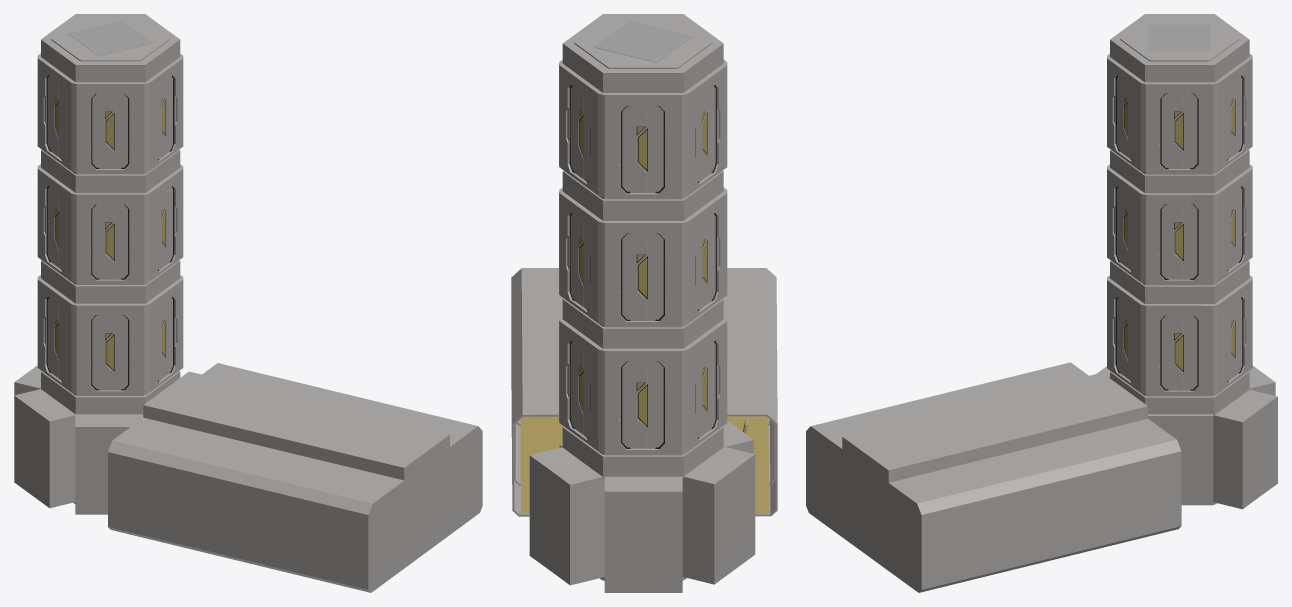
Rendered from kitchen_and_tunnel_model_v4.fbx.
3 renders of one model, left to right at view 1: azimuth 30°, elevation 25°; view 2: azimuth 150°, elevation 25°; view 3: azimuth 270°, elevation 25°, orthographic. The views are drawn at different scales.
Parts seen in each view (by area): view 1: Another_room, WALLS_1 (×3), ceiling_railing_1 (×3), D1_door_R1 (×6), K_wall, D1_door_L1 (×6), A_wall, ceiling_1, C_railing, top_door_2, top_door_1; view 2: WALLS_1 (×3), Another_room, ceiling_railing_1 (×3), D1_door_R1 (×9), D1_door_L1 (×9), P_wall, S_wall, K_wall, C_railing, ceiling_1, top_door_1, top_door_2 (+1 smaller); view 3: Another_room, WALLS_1 (×3), ceiling_railing_1 (×3), D1_door_L1 (×9), D1_door_R1 (×9), S_wall, W_wall, ceiling_1, C_railing, top_door_1, top_door_2.
Part boxes in pixels (bbox=[...]): Another_room: bbox=[108, 363, 482, 592]; WALLS_1 (×3): bbox=[37, 53, 183, 393]; ceiling_railing_1 (×3): bbox=[41, 14, 180, 303]; D1_door_R1 (×6): bbox=[47, 76, 114, 390]; K_wall: bbox=[14, 389, 75, 508]; D1_door_L1 (×6): bbox=[105, 76, 172, 390]; A_wall: bbox=[75, 414, 143, 514]; ceiling_1: bbox=[51, 16, 169, 61]; C_railing: bbox=[41, 371, 180, 414]; top_door_2: bbox=[83, 31, 153, 56]; top_door_1: bbox=[68, 20, 137, 44]; WALLS_1 (×3): bbox=[559, 60, 727, 452]; Another_room: bbox=[511, 268, 777, 516]; ceiling_railing_1 (×3): bbox=[562, 14, 723, 348]; D1_door_R1 (×9): bbox=[570, 86, 707, 448]; D1_door_L1 (×9): bbox=[578, 86, 715, 448]; P_wall: bbox=[604, 476, 682, 592]; S_wall: bbox=[529, 447, 604, 585]; K_wall: bbox=[682, 447, 755, 584]; C_railing: bbox=[562, 426, 723, 478]; ceiling_1: bbox=[574, 16, 712, 68]; top_door_1: bbox=[594, 34, 674, 62]; top_door_2: bbox=[612, 21, 692, 49]; Another_room: bbox=[806, 362, 1181, 592]; WALLS_1 (×3): bbox=[1107, 54, 1252, 394]; ceiling_railing_1 (×3): bbox=[1110, 14, 1249, 303]; D1_door_L1 (×9): bbox=[1123, 76, 1242, 390]; D1_door_R1 (×9): bbox=[1117, 76, 1235, 390]; S_wall: bbox=[1213, 389, 1277, 509]; W_wall: bbox=[1148, 414, 1213, 503]; ceiling_1: bbox=[1120, 16, 1239, 61]; C_railing: bbox=[1110, 371, 1249, 414]; top_door_1: bbox=[1179, 24, 1210, 51]; top_door_2: bbox=[1148, 24, 1179, 51].
Bounding box in the file's own units: 977 × 1279 × 1238.
